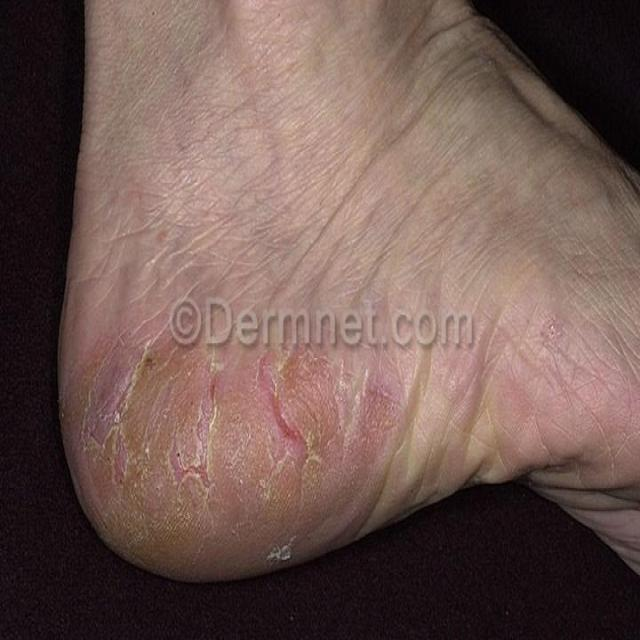liquenificacion 1: (362, 279, 637, 490), (83, 169, 318, 331)
